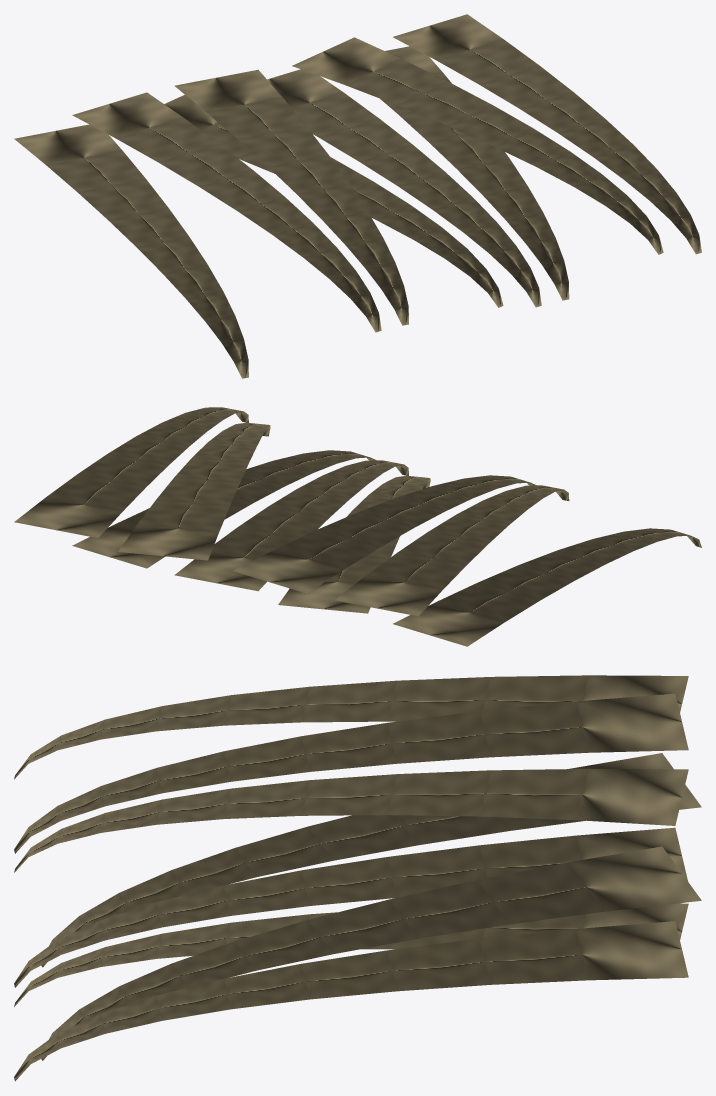
File: bark_raft_swamp_and_mangrove_22653.glb
3 views of the same model, one above another, from view 1: azimuth 30°, elevation 25°; view 2: azimuth 150°, elevation 25°; view 3: azimuth 270°, elevation 25° (orthographic). The views are drawn at different scales.
Visible parts, largest first — view 1: bark-raft; view 2: bark-raft; view 3: bark-raft.
Boxes of the visible parts, x1,y1,x2,y2 form: bark-raft: (14,14,701,378); bark-raft: (14,407,701,646); bark-raft: (14,675,701,1081).
Size of the model in its own units: 1.06 by 0.18 by 0.9201.
1 material, 1 textured.
